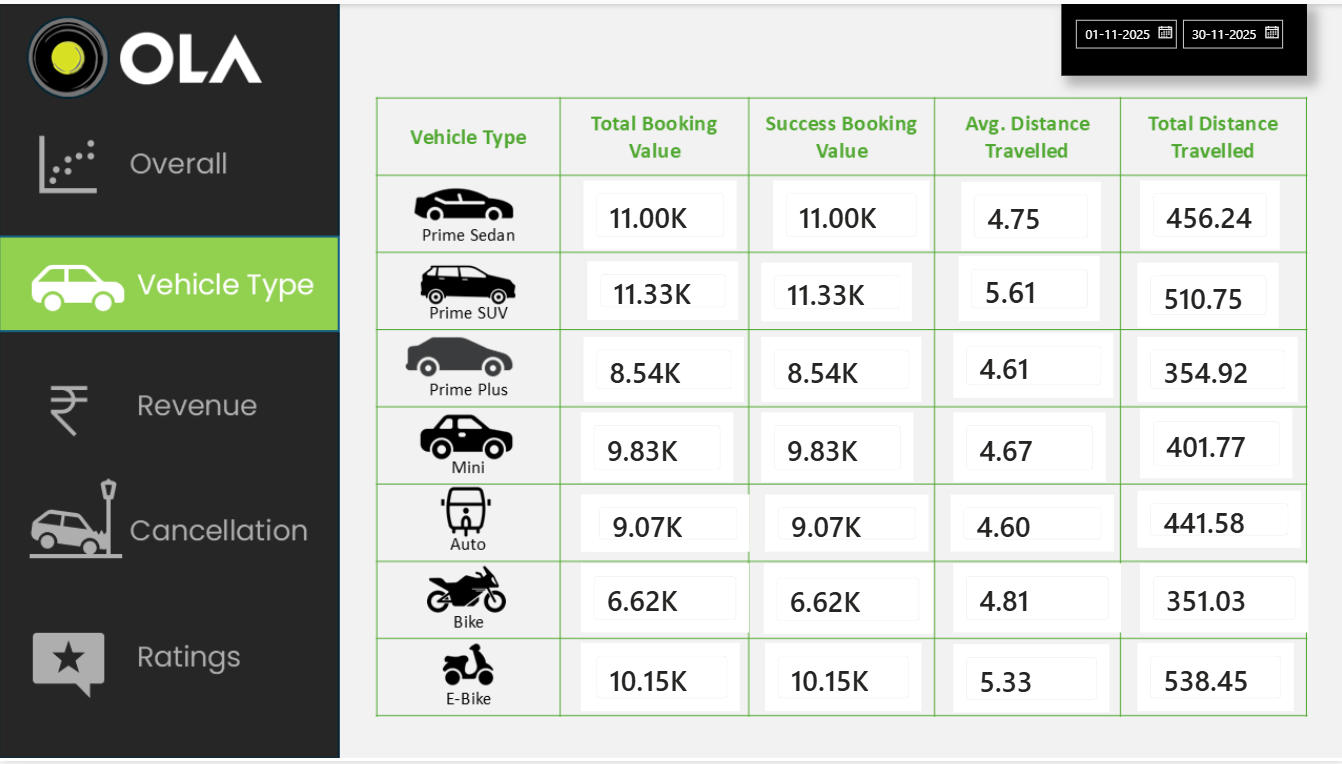

This screenshot's page, from the dashboard's own definition file:
{"tool":"powerbi","page":{"name":"vehicle type","canvas":[1280,720],"ordinal":1},"visuals":[{"type":"actionButton","box":[0,223.2,322.4,87.5],"z":0},{"type":"cardVisual","fields":{"Data":["Sum(bengaluru_ride_data_sql_ready_1000.booking_value)"]},"box":[551.4,162.5,156.9,76.4],"z":1000},{"type":"cardVisual","fields":{"Data":["Sum(bengaluru_ride_data_sql_ready_1000.booking_value)"]},"box":[554.2,238.9,154.2,66.7],"z":2000},{"type":"cardVisual","fields":{"Data":["Sum(bengaluru_ride_data_sql_ready_1000.booking_value)"]},"box":[548.6,461.1,166.7,65.3],"z":3000},{"type":"cardVisual","fields":{"Data":["Sum(bengaluru_ride_data_sql_ready_1000.booking_value)"]},"box":[548.6,526.4,170.8,76.4],"z":4000},{"type":"cardVisual","fields":{"Data":["Sum(bengaluru_ride_data_sql_ready_1000.booking_value)"]},"box":[548.6,602.8,159.7,75],"z":5000},{"type":"cardVisual","fields":{"Data":["Sum(bengaluru_ride_data_sql_ready_1000.booking_value)"]},"box":[551.4,311.1,163.9,72.2],"z":6000},{"type":"cardVisual","fields":{"Data":["Sum(bengaluru_ride_data_sql_ready_1000.booking_value)"]},"box":[548.6,383.3,155.6,77.8],"z":7000},{"type":"cardVisual","fields":{"Data":["Sum(bengaluru_ride_data_sql_ready_1000.booking_value)"]},"box":[730.6,162.5,159.7,76.4],"z":8000},{"type":"cardVisual","fields":{"Data":["Sum(bengaluru_ride_data_sql_ready_1000.booking_value)"]},"box":[719.4,240.3,154.2,66.7],"z":9000},{"type":"cardVisual","fields":{"Data":["Sum(bengaluru_ride_data_sql_ready_1000.booking_value)"]},"box":[719.4,311.1,163.9,72.2],"z":10000},{"type":"cardVisual","fields":{"Data":["Sum(bengaluru_ride_data_sql_ready_1000.booking_value)"]},"box":[719.4,383.3,155.6,77.8],"z":11000},{"type":"cardVisual","fields":{"Data":["Sum(bengaluru_ride_data_sql_ready_1000.booking_value)"]},"box":[552.8,461.1,166.7,65.3],"z":12000},{"type":"cardVisual","fields":{"Data":["Sum(bengaluru_ride_data_sql_ready_1000.booking_value)"]},"box":[723.6,461.1,166.7,65.3],"z":13000},{"type":"cardVisual","fields":{"Data":["Sum(bengaluru_ride_data_sql_ready_1000.booking_value)"]},"box":[723.6,526.4,170.8,76.4],"z":14000},{"type":"cardVisual","fields":{"Data":["Sum(bengaluru_ride_data_sql_ready_1000.booking_value)"]},"box":[551.4,602.8,159.7,75],"z":15000},{"type":"cardVisual","fields":{"Data":["Sum(bengaluru_ride_data_sql_ready_1000.booking_value)"]},"box":[722.2,527.8,170.8,76.4],"z":16000},{"type":"cardVisual","fields":{"Data":["Sum(bengaluru_ride_data_sql_ready_1000.booking_value)"]},"box":[723.6,602.8,159.7,75],"z":17000},{"type":"cardVisual","fields":{"Data":["Avg(bengaluru_ride_data_sql_ready_1000.ride_distance)"]},"box":[909.7,163.9,143.1,76.4],"z":18000},{"type":"cardVisual","fields":{"Data":["Avg(bengaluru_ride_data_sql_ready_1000.ride_distance)"]},"box":[906.9,234.7,145.8,72.2],"z":19000},{"type":"cardVisual","fields":{"Data":["Avg(bengaluru_ride_data_sql_ready_1000.ride_distance)"]},"box":[902.8,306.9,163.9,72.2],"z":20000},{"type":"cardVisual","fields":{"Data":["Avg(bengaluru_ride_data_sql_ready_1000.ride_distance)"]},"box":[902.8,383.3,155.6,77.8],"z":21000},{"type":"cardVisual","fields":{"Data":["Avg(bengaluru_ride_data_sql_ready_1000.ride_distance)"]},"box":[900,461.1,166.7,65.3],"z":22000},{"type":"cardVisual","fields":{"Data":["Avg(bengaluru_ride_data_sql_ready_1000.ride_distance)"]},"box":[902.8,526.4,170.8,76.4],"z":23000},{"type":"cardVisual","fields":{"Data":["Avg(bengaluru_ride_data_sql_ready_1000.ride_distance)"]},"box":[902.8,604.2,159.7,75],"z":24000},{"type":"cardVisual","fields":{"Data":["Sum(bengaluru_ride_data_sql_ready_1000.ride_distance)"]},"box":[1080.6,162.5,143.1,76.4],"z":25000},{"type":"cardVisual","fields":{"Data":["Sum(bengaluru_ride_data_sql_ready_1000.ride_distance)"]},"box":[1077.8,311.1,163.9,72.2],"z":26000},{"type":"cardVisual","fields":{"Data":["Sum(bengaluru_ride_data_sql_ready_1000.ride_distance)"]},"box":[1077.8,240.3,145.8,72.2],"z":27000},{"type":"cardVisual","fields":{"Data":["Sum(bengaluru_ride_data_sql_ready_1000.ride_distance)"]},"box":[1080.6,379.2,155.6,77.8],"z":28000},{"type":"cardVisual","fields":{"Data":["Sum(bengaluru_ride_data_sql_ready_1000.ride_distance)"]},"box":[1077.8,456.9,166.7,65.3],"z":29000},{"type":"cardVisual","fields":{"Data":["Sum(bengaluru_ride_data_sql_ready_1000.ride_distance)"]},"box":[1080.6,526.4,170.8,76.4],"z":30000},{"type":"cardVisual","fields":{"Data":["Sum(bengaluru_ride_data_sql_ready_1000.ride_distance)"]},"box":[1077.8,602.8,159.7,75],"z":31000},{"type":"slicer","title":"Date","fields":{"Values":["bengaluru_ride_data_sql_ready_1000.date"]},"box":[1011.1,0,233.3,68.1],"z":32000}]}

Visuals, with their boxes on the page's 1280x720 design canvas (x1, y1, x2, y2). These are canvas units, not pixel positions in the 1342x764 screenshot, which may show the page scaled, cropped or inside an application window:
actionButton: (left=0, top=223, right=322, bottom=311)
cardVisual - Sum(bengaluru_ride_data_sql_ready_1000.booking_value): (left=551, top=162, right=708, bottom=239)
cardVisual - Sum(bengaluru_ride_data_sql_ready_1000.booking_value): (left=554, top=239, right=708, bottom=306)
cardVisual - Sum(bengaluru_ride_data_sql_ready_1000.booking_value): (left=549, top=461, right=715, bottom=526)
cardVisual - Sum(bengaluru_ride_data_sql_ready_1000.booking_value): (left=549, top=526, right=719, bottom=603)
cardVisual - Sum(bengaluru_ride_data_sql_ready_1000.booking_value): (left=549, top=603, right=708, bottom=678)
cardVisual - Sum(bengaluru_ride_data_sql_ready_1000.booking_value): (left=551, top=311, right=715, bottom=383)
cardVisual - Sum(bengaluru_ride_data_sql_ready_1000.booking_value): (left=549, top=383, right=704, bottom=461)
cardVisual - Sum(bengaluru_ride_data_sql_ready_1000.booking_value): (left=731, top=162, right=890, bottom=239)
cardVisual - Sum(bengaluru_ride_data_sql_ready_1000.booking_value): (left=719, top=240, right=874, bottom=307)
cardVisual - Sum(bengaluru_ride_data_sql_ready_1000.booking_value): (left=719, top=311, right=883, bottom=383)
cardVisual - Sum(bengaluru_ride_data_sql_ready_1000.booking_value): (left=719, top=383, right=875, bottom=461)
cardVisual - Sum(bengaluru_ride_data_sql_ready_1000.booking_value): (left=553, top=461, right=720, bottom=526)
cardVisual - Sum(bengaluru_ride_data_sql_ready_1000.booking_value): (left=724, top=461, right=890, bottom=526)
cardVisual - Sum(bengaluru_ride_data_sql_ready_1000.booking_value): (left=724, top=526, right=894, bottom=603)
cardVisual - Sum(bengaluru_ride_data_sql_ready_1000.booking_value): (left=551, top=603, right=711, bottom=678)
cardVisual - Sum(bengaluru_ride_data_sql_ready_1000.booking_value): (left=722, top=528, right=893, bottom=604)
cardVisual - Sum(bengaluru_ride_data_sql_ready_1000.booking_value): (left=724, top=603, right=883, bottom=678)
cardVisual - Avg(bengaluru_ride_data_sql_ready_1000.ride_distance): (left=910, top=164, right=1053, bottom=240)
cardVisual - Avg(bengaluru_ride_data_sql_ready_1000.ride_distance): (left=907, top=235, right=1053, bottom=307)
cardVisual - Avg(bengaluru_ride_data_sql_ready_1000.ride_distance): (left=903, top=307, right=1067, bottom=379)
cardVisual - Avg(bengaluru_ride_data_sql_ready_1000.ride_distance): (left=903, top=383, right=1058, bottom=461)
cardVisual - Avg(bengaluru_ride_data_sql_ready_1000.ride_distance): (left=900, top=461, right=1067, bottom=526)
cardVisual - Avg(bengaluru_ride_data_sql_ready_1000.ride_distance): (left=903, top=526, right=1074, bottom=603)
cardVisual - Avg(bengaluru_ride_data_sql_ready_1000.ride_distance): (left=903, top=604, right=1062, bottom=679)
cardVisual - Sum(bengaluru_ride_data_sql_ready_1000.ride_distance): (left=1081, top=162, right=1224, bottom=239)
cardVisual - Sum(bengaluru_ride_data_sql_ready_1000.ride_distance): (left=1078, top=311, right=1242, bottom=383)
cardVisual - Sum(bengaluru_ride_data_sql_ready_1000.ride_distance): (left=1078, top=240, right=1224, bottom=312)
cardVisual - Sum(bengaluru_ride_data_sql_ready_1000.ride_distance): (left=1081, top=379, right=1236, bottom=457)
cardVisual - Sum(bengaluru_ride_data_sql_ready_1000.ride_distance): (left=1078, top=457, right=1244, bottom=522)
cardVisual - Sum(bengaluru_ride_data_sql_ready_1000.ride_distance): (left=1081, top=526, right=1251, bottom=603)
cardVisual - Sum(bengaluru_ride_data_sql_ready_1000.ride_distance): (left=1078, top=603, right=1238, bottom=678)
"Date" slicer: (left=1011, top=0, right=1244, bottom=68)
